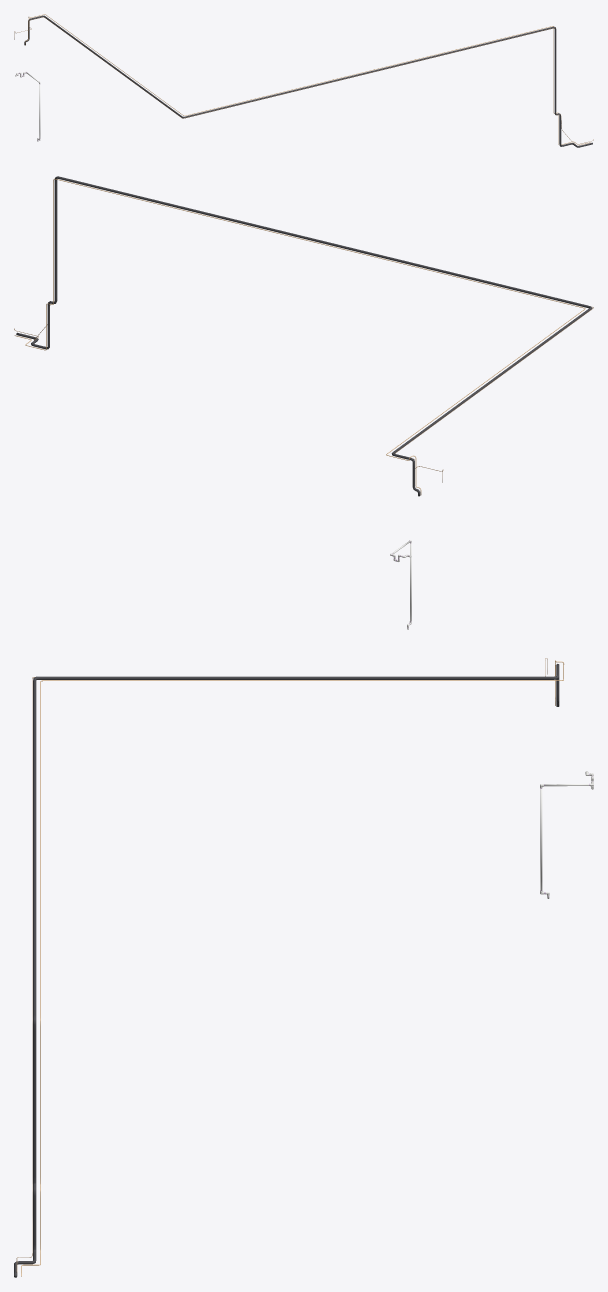
The model's file is slab_pipes_hvac__hvac-split_furnace.glb.
The picture shows the model from 3 angles, top to bottom: view 1: azimuth 30°, elevation 25°; view 2: azimuth 150°, elevation 25°; view 3: azimuth 270°, elevation 25°; orthographic projection. The views are drawn at different scales.
Parts seen in each view (by area): view 1: pipe_hvac_lineset_suction_ra14ay36, pipe_hvac_lineset_liquid_ra14ay36, pipe_hvac_lineset_tstat_cable_ra14ay36; view 2: pipe_hvac_lineset_suction_ra14ay36, pipe_hvac_lineset_liquid_ra14ay36; view 3: pipe_hvac_lineset_suction_ra14ay36, pipe_hvac_lineset_liquid_ra14ay36.
Part boxes in pixels (bbox=[...]): pipe_hvac_lineset_suction_ra14ay36: bbox=[24, 15, 592, 147]; pipe_hvac_lineset_liquid_ra14ay36: bbox=[25, 14, 590, 145]; pipe_hvac_lineset_tstat_cable_ra14ay36: bbox=[14, 17, 593, 144]; pipe_hvac_lineset_suction_ra14ay36: bbox=[16, 176, 592, 496]; pipe_hvac_lineset_liquid_ra14ay36: bbox=[14, 178, 585, 494]; pipe_hvac_lineset_suction_ra14ay36: bbox=[14, 664, 559, 1277]; pipe_hvac_lineset_liquid_ra14ay36: bbox=[21, 660, 564, 1276].
Size of the model in its own units: 12.08 by 3.25 by 7.35.
